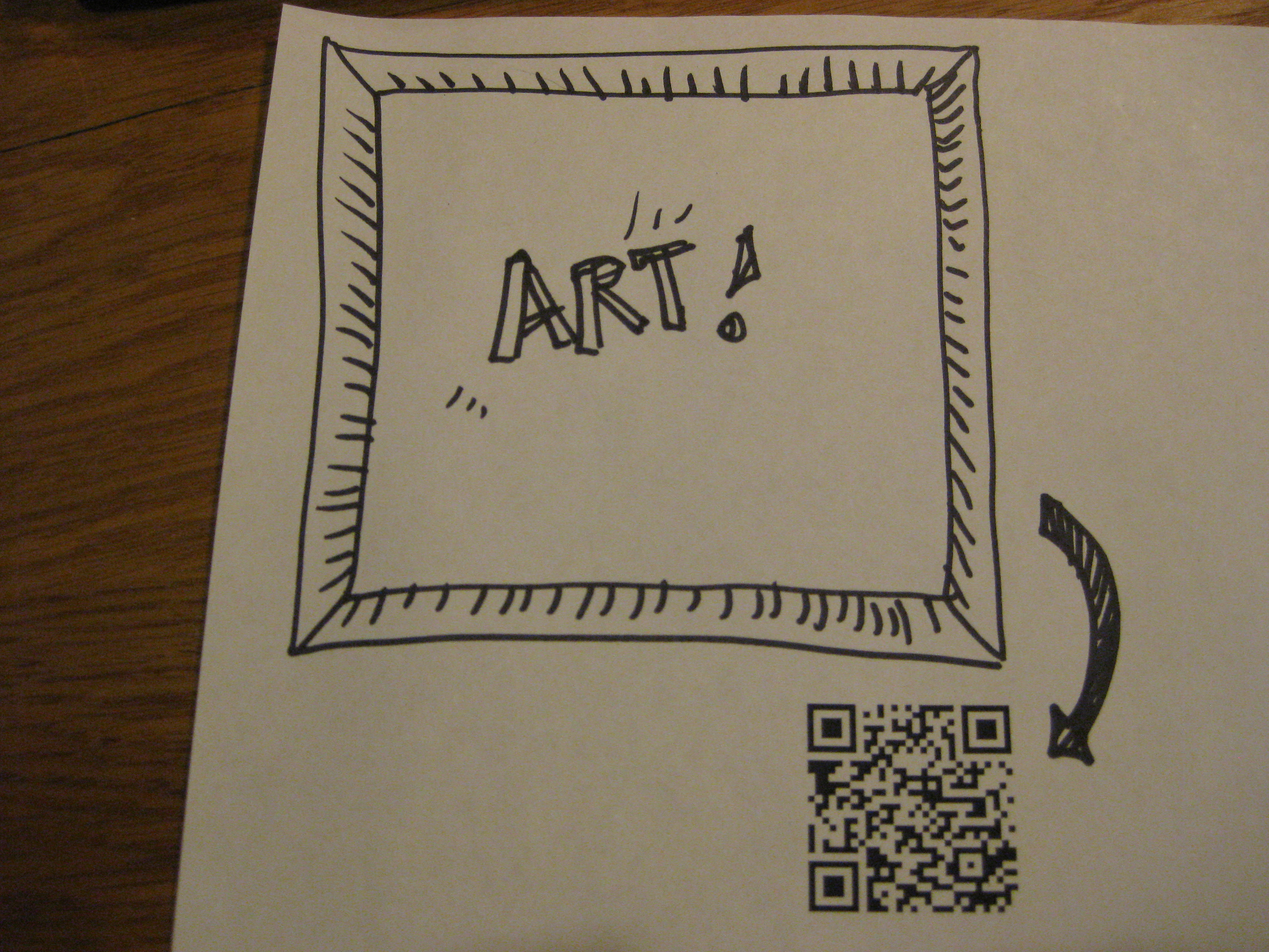QR-CODE: (808, 704, 1018, 912)
